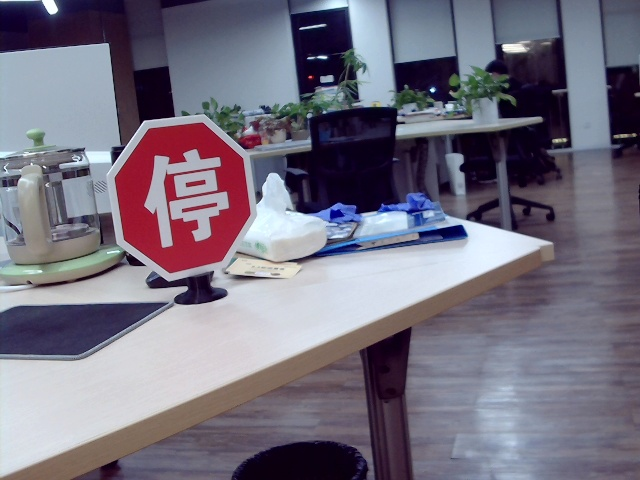stop: (138, 148, 229, 243)
